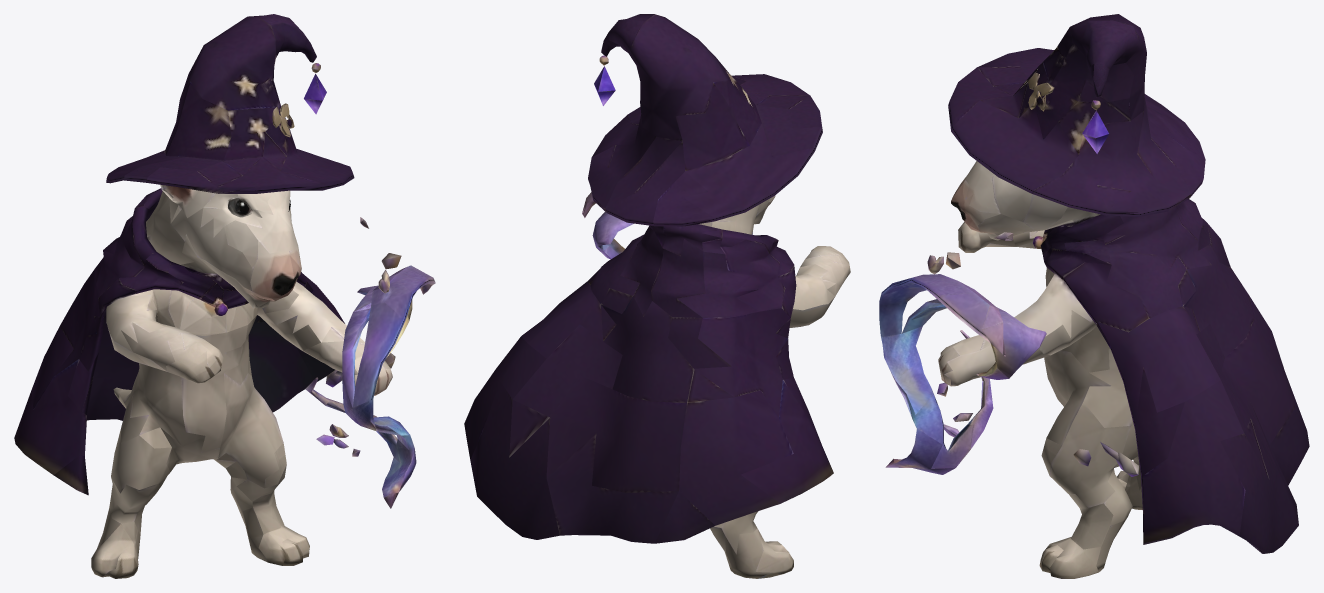
The model's file is ยาก้า.glb.
The picture shows the model from 3 angles, left to right: view 1: azimuth 30°, elevation 25°; view 2: azimuth 150°, elevation 25°; view 3: azimuth 270°, elevation 25°; orthographic projection. The views are drawn at different scales.
Parts seen in each view (by area): view 1: mesh_node; view 2: mesh_node; view 3: mesh_node.
Boxes of the visible parts, x1,y1,x2,y2 form: mesh_node: [14, 14, 435, 578]; mesh_node: [464, 14, 850, 578]; mesh_node: [879, 14, 1309, 578].
Size of the model in its own units: 0.7031 by 1 by 0.7148.
1 material, 1 textured.
